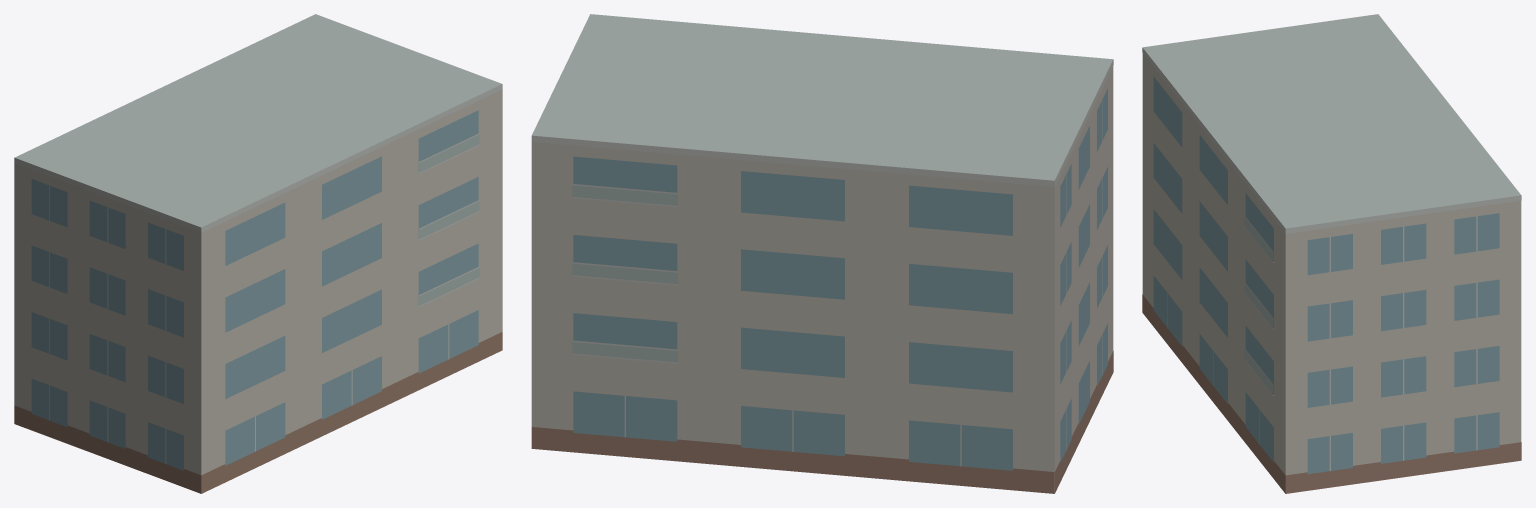
The model's file is residential-9c329adc-8931-4e36-a7b0-acf3cfe408dd.glb.
3 renders of one model, left to right at view 1: azimuth 30°, elevation 25°; view 2: azimuth 150°, elevation 25°; view 3: azimuth 270°, elevation 25°, orthographic. The views are drawn at different scales.
Parts seen in each view (by area): view 1: residential-9c329adc-8931-4e36-a7b0-acf3cfe408dd.tmp; view 2: residential-9c329adc-8931-4e36-a7b0-acf3cfe408dd.tmp; view 3: residential-9c329adc-8931-4e36-a7b0-acf3cfe408dd.tmp.
Part boxes in pixels (<box>): residential-9c329adc-8931-4e36-a7b0-acf3cfe408dd.tmp: <box>14,14,502,493</box>; residential-9c329adc-8931-4e36-a7b0-acf3cfe408dd.tmp: <box>531,14,1113,493</box>; residential-9c329adc-8931-4e36-a7b0-acf3cfe408dd.tmp: <box>1142,14,1521,493</box>.
Size of the model in its own units: 21.18 by 12.2 by 15.81.
